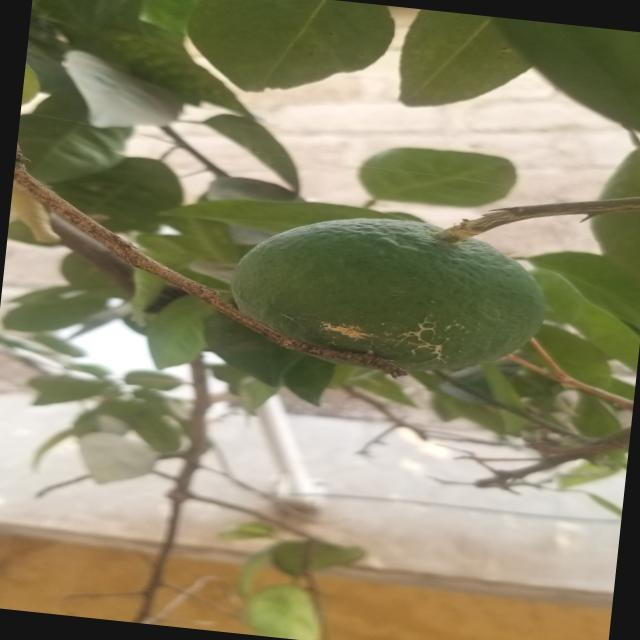agrume: (226, 197, 566, 403)
